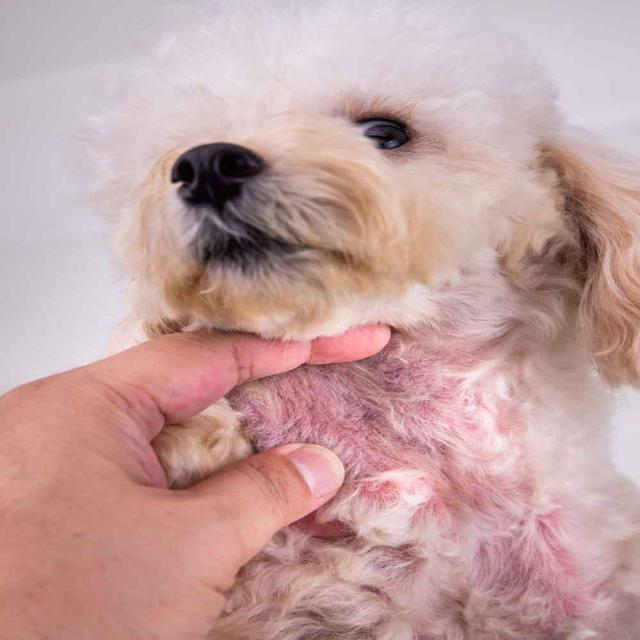nhiem nam (cho): (223, 308, 548, 539)
